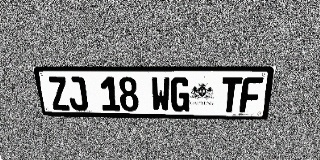1: (99, 77, 120, 111)
8: (118, 77, 139, 111)
F: (239, 77, 263, 113)
G: (171, 77, 190, 112)
J: (66, 77, 89, 111)
T: (220, 77, 242, 112)
W: (151, 77, 170, 112)
Z: (47, 76, 71, 110)
